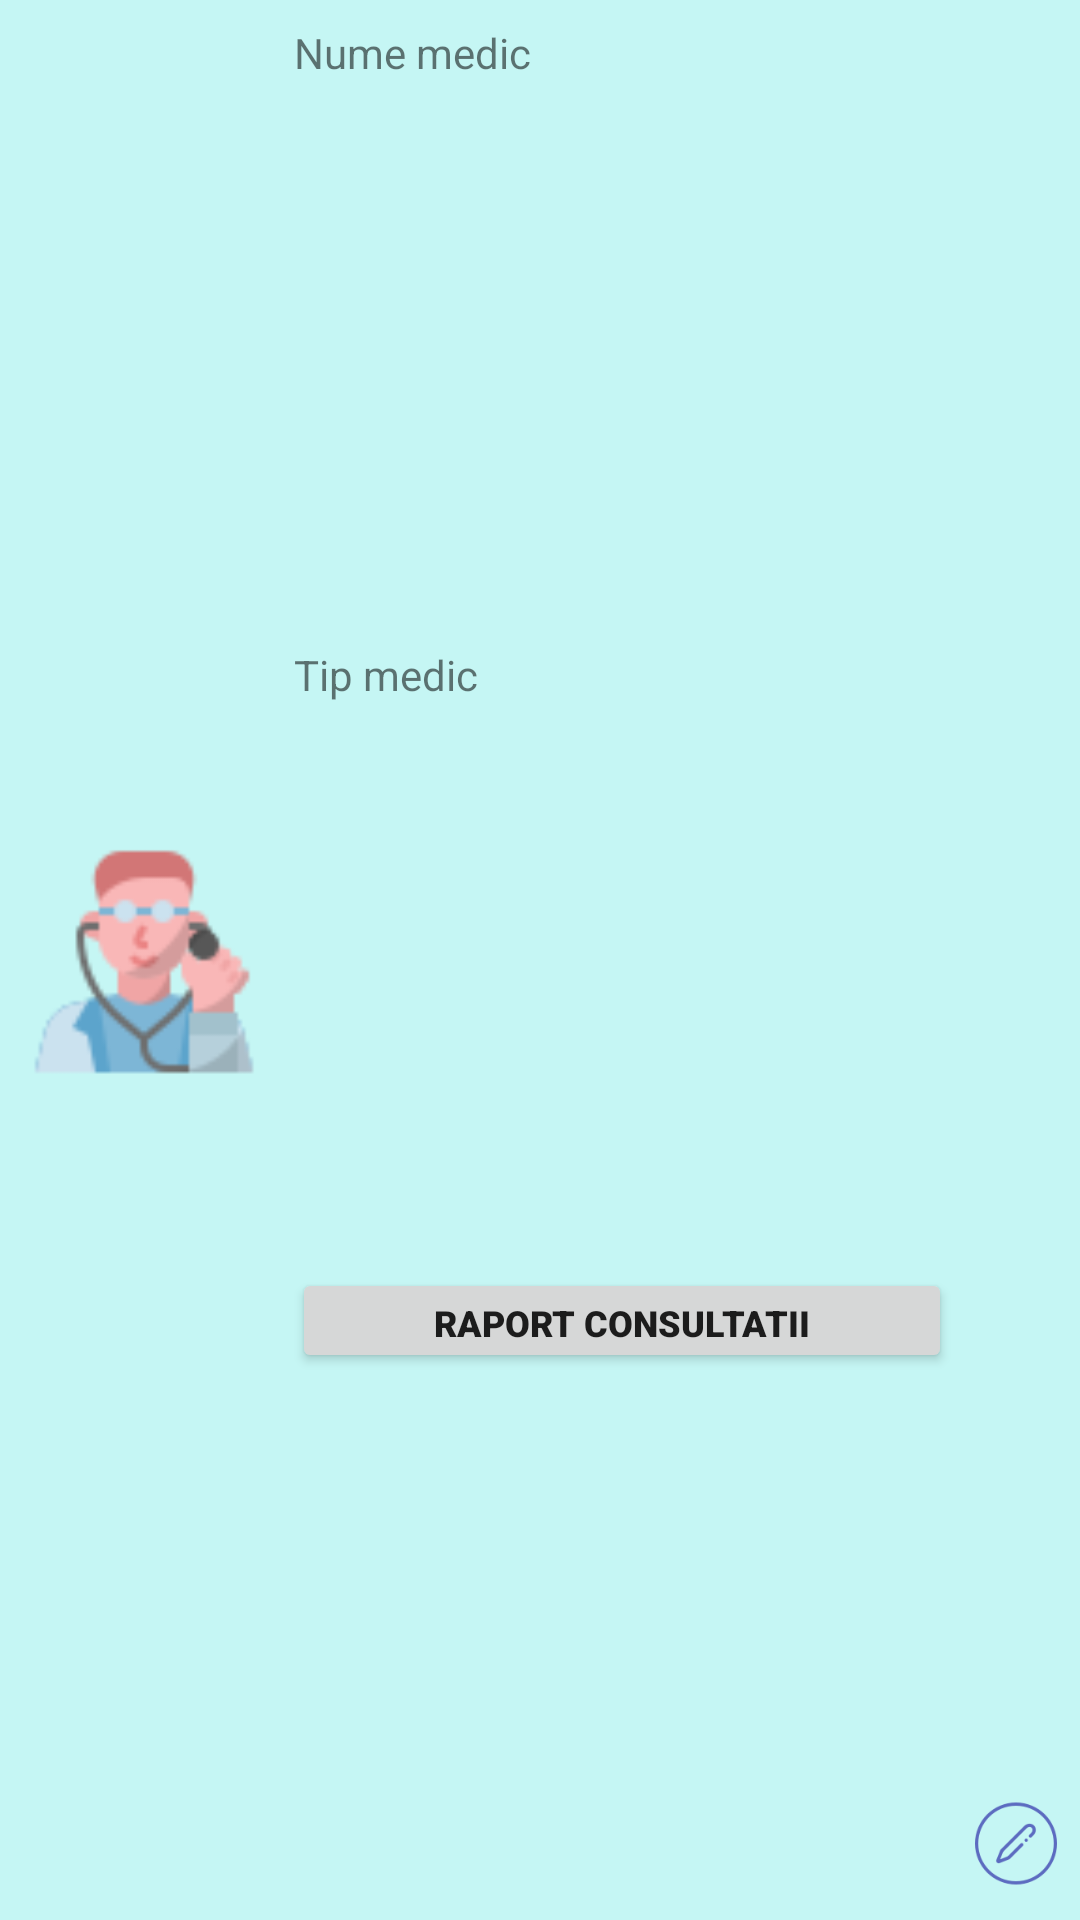

Screen size 1080 x 1920. Icon name, then its center in pixels as (x=x, y=y):
edit: (x=1016, y=1843)
welcome cadremedicale: (x=144, y=962)
